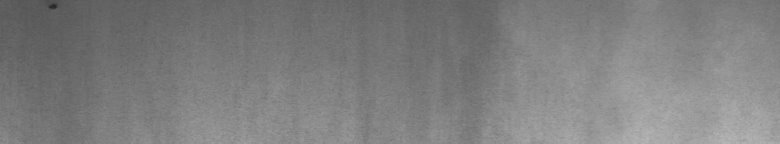fi: (48, 4, 60, 16)
